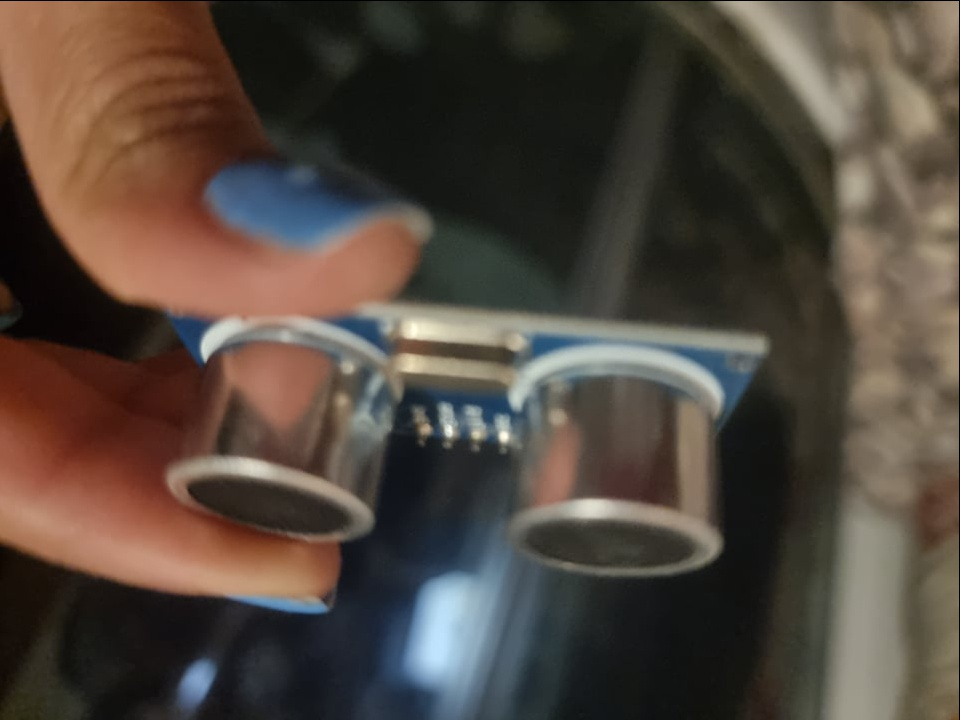SENSOR: (159, 305, 773, 580)
